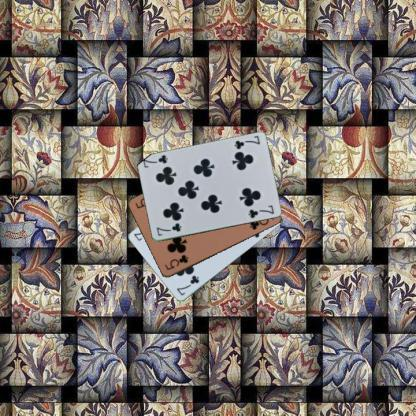5c: (162, 252, 190, 271)
7c: (174, 272, 200, 298), (232, 133, 260, 151), (154, 221, 182, 238)
